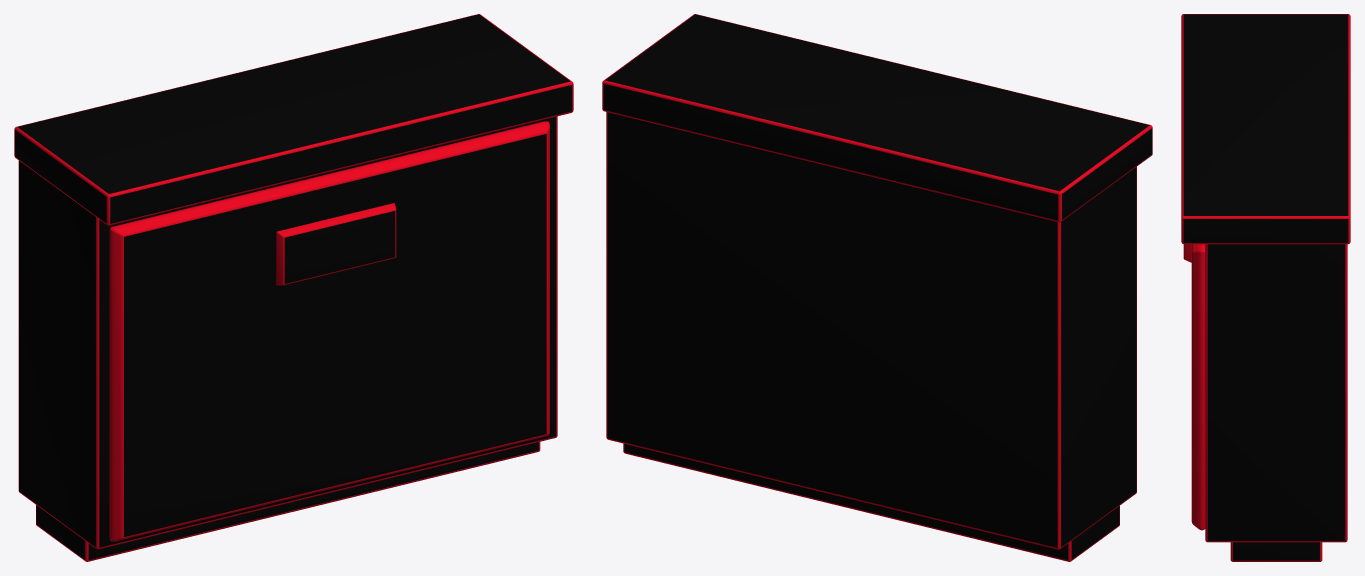
The model's file is Transformateur .fbx.
3 views of the same model, side by side, from view 1: azimuth 30°, elevation 25°; view 2: azimuth 150°, elevation 25°; view 3: azimuth 270°, elevation 25° (orthographic). The views are drawn at different scales.
Visible parts, largest first — view 1: Thin Green Electrical Box. New; view 2: Thin Green Electrical Box. New; view 3: Thin Green Electrical Box. New.
Part boxes in pixels (<box>): Thin Green Electrical Box. New: <box>14,14,573,561</box>; Thin Green Electrical Box. New: <box>602,14,1152,561</box>; Thin Green Electrical Box. New: <box>1181,14,1350,561</box>.
Bounding box in the file's own units: 202 × 161 × 70.92.
